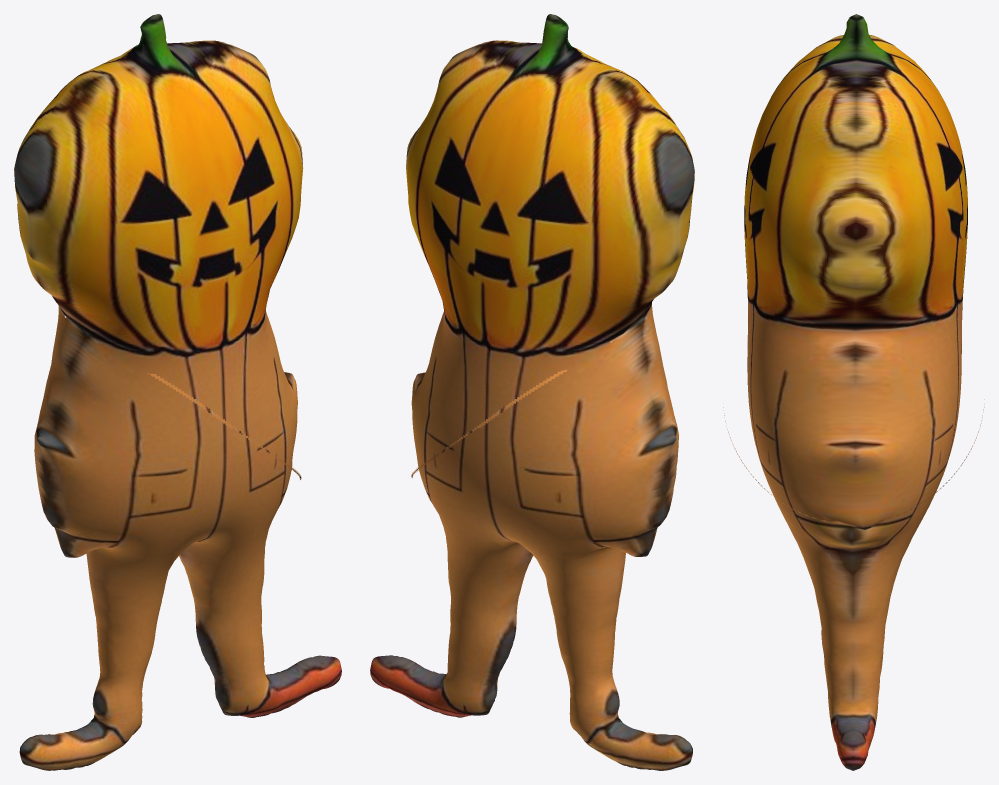
File: pumpkin-man.glb
3 views of the same model, side by side, from view 1: azimuth 30°, elevation 25°; view 2: azimuth 150°, elevation 25°; view 3: azimuth 270°, elevation 25° (orthographic). The views are drawn at different scales.
Bounding box in the file's own units: 3.31 × 7.21 × 2.46.
1 material, 1 textured.
